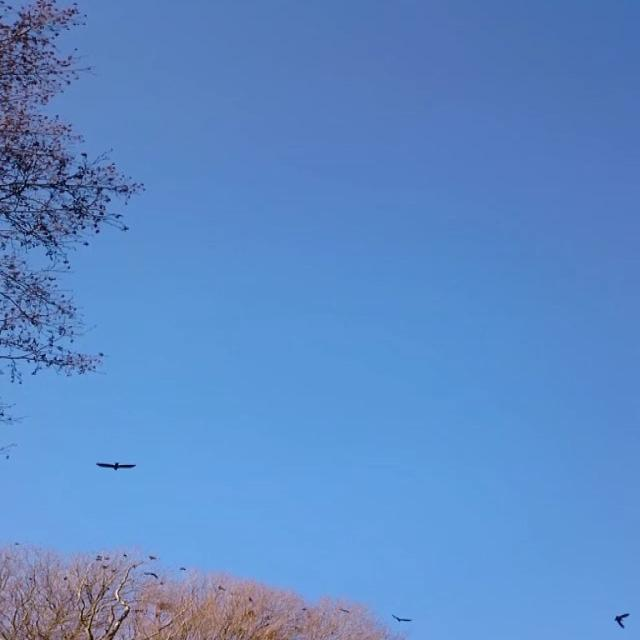bird: (88, 448, 146, 478)
